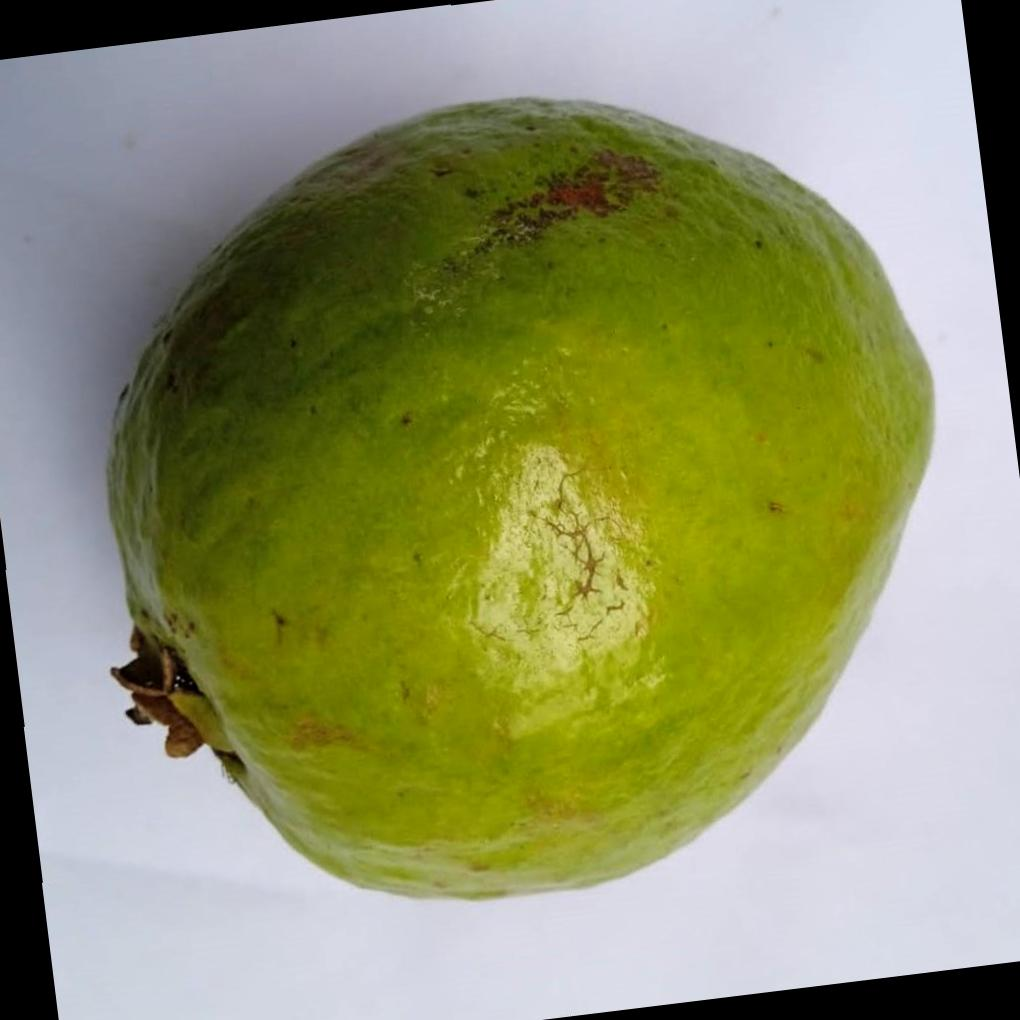FreshGuava: (106, 94, 941, 903)
